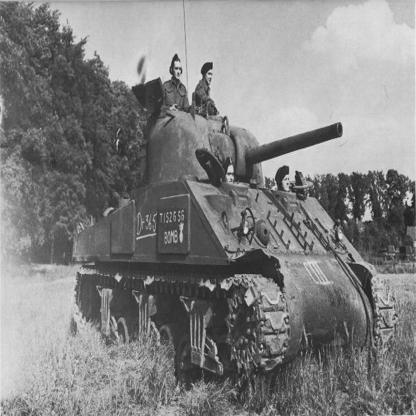Tank: (70, 96, 403, 387)
